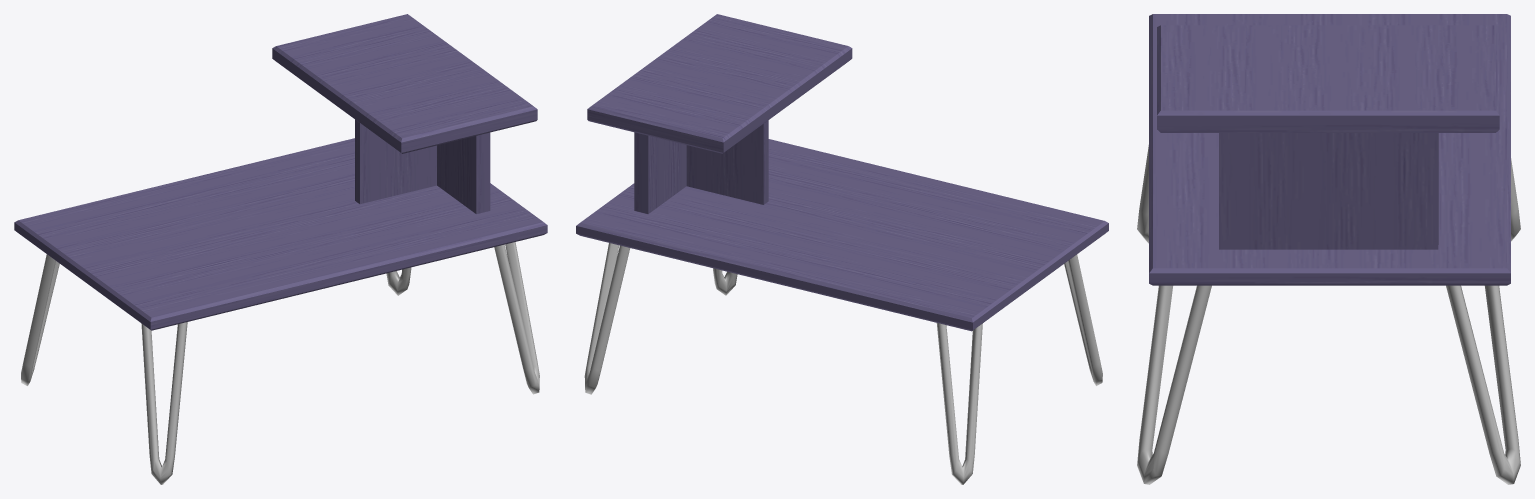
File: End_Table_09.FBX
3 renders of one model, left to right at view 1: azimuth 30°, elevation 25°; view 2: azimuth 150°, elevation 25°; view 3: azimuth 270°, elevation 25°, orthographic. The views are drawn at different scales.
Parts seen in each view (by area): view 1: End_Table; view 2: End_Table; view 3: End_Table.
Part boxes in pixels (x1=…): End_Table: x1=14, y1=14, x2=547, y2=484; End_Table: x1=576, y1=14, x2=1108, y2=484; End_Table: x1=1137, y1=14, x2=1520, y2=484.
Size of the model in its own units: 160 by 109 by 101.
